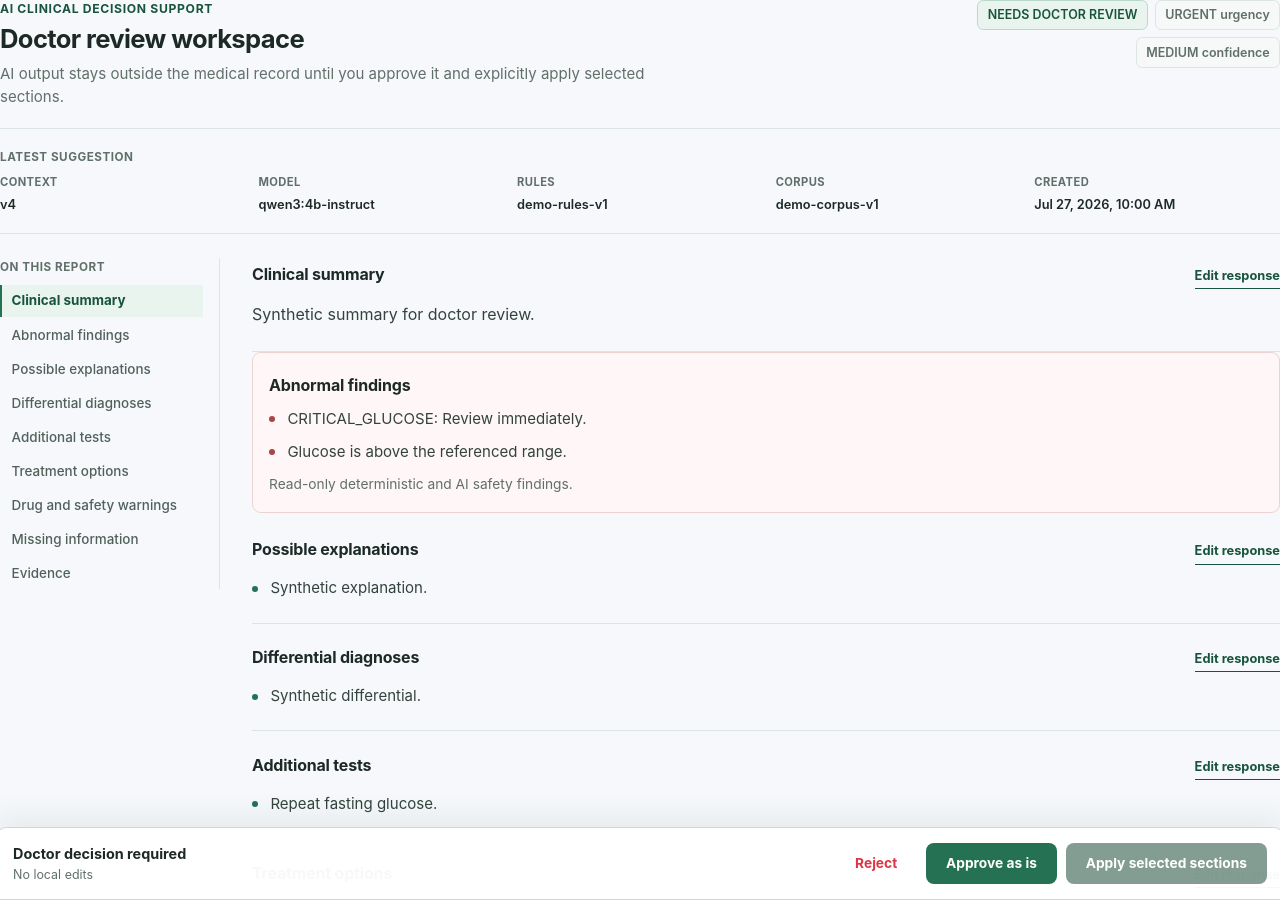
it: CdsSuggestionReviewPanel › requires a reason in the accessible Reject dialog
The image size is (1280, 900).
Click the button "Reject": (876, 864) [835,844,917,884]
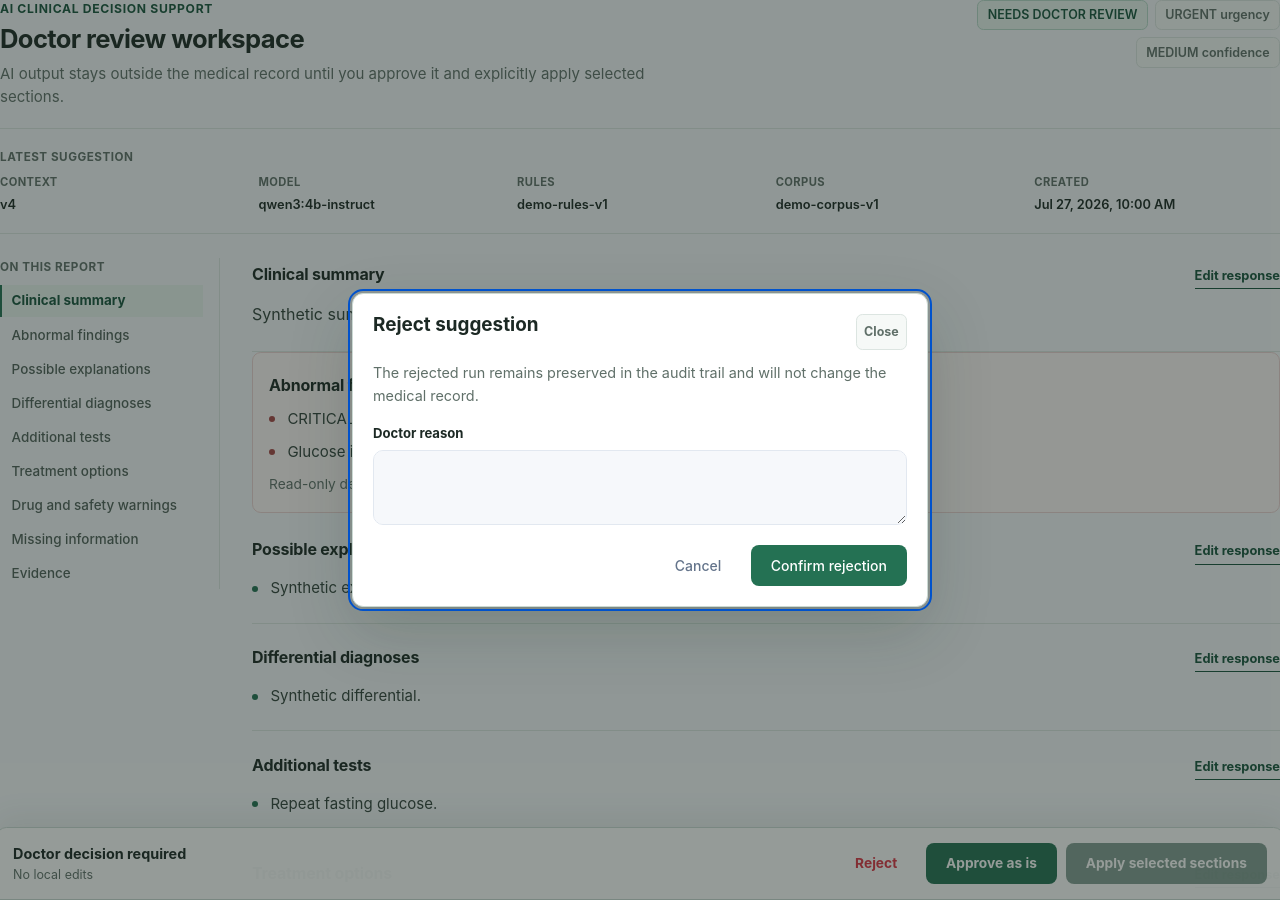
Click the button "Confirm rejection": (829, 565) [751,545,907,586]
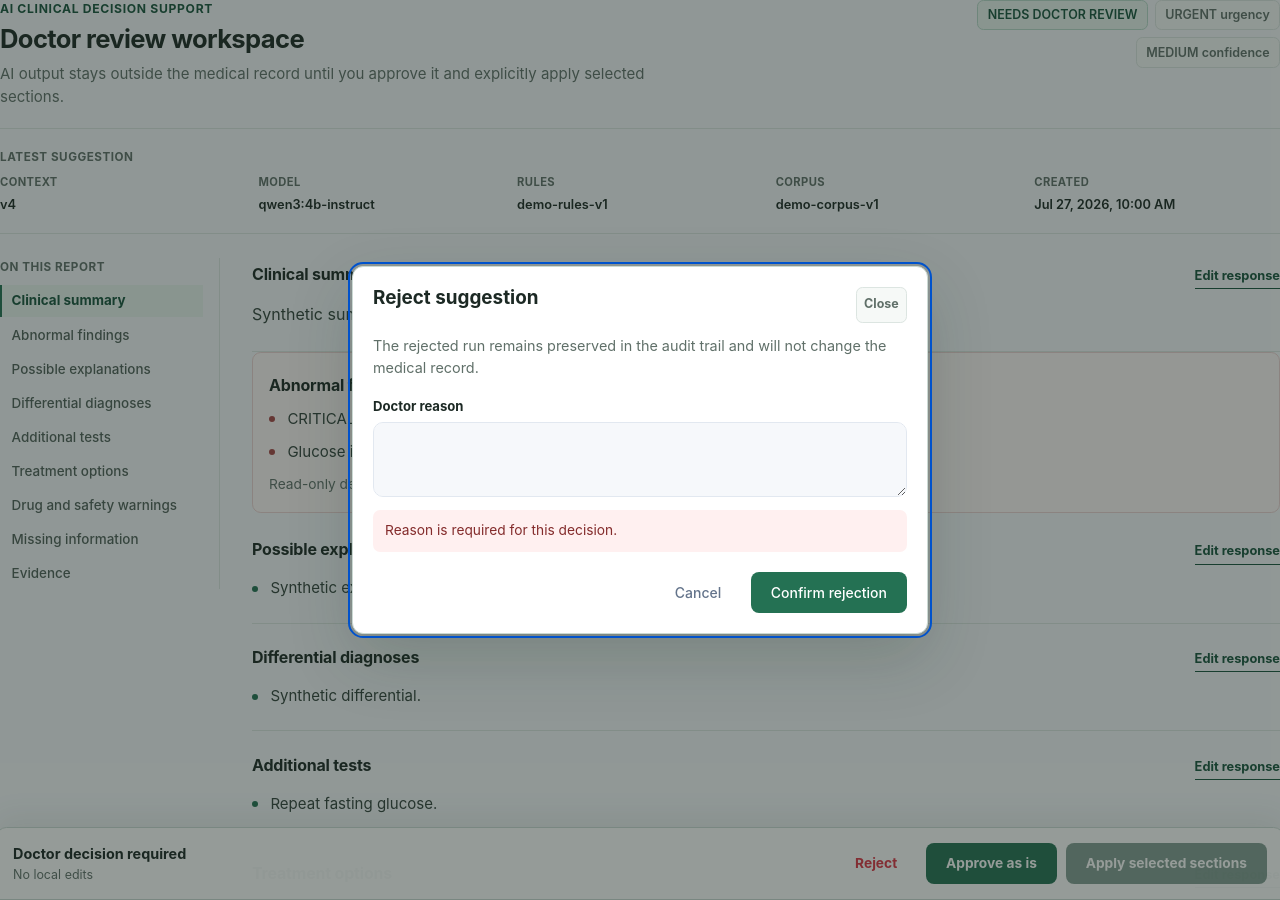
Expected: the text "Reason is required for this decision." is shown, [373,510,907,552]
